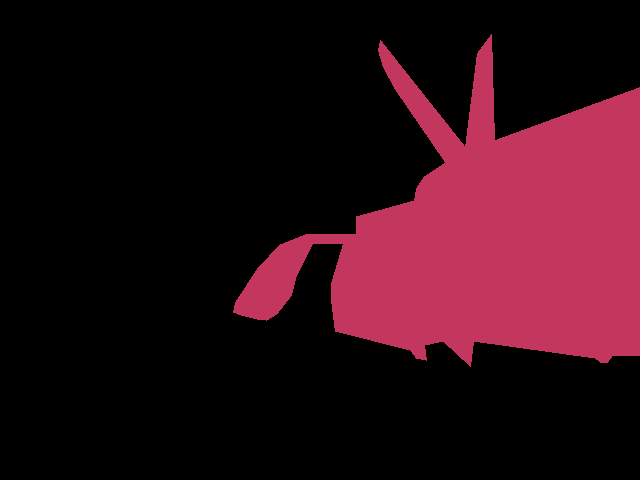Airplane: (233, 34, 640, 367)
